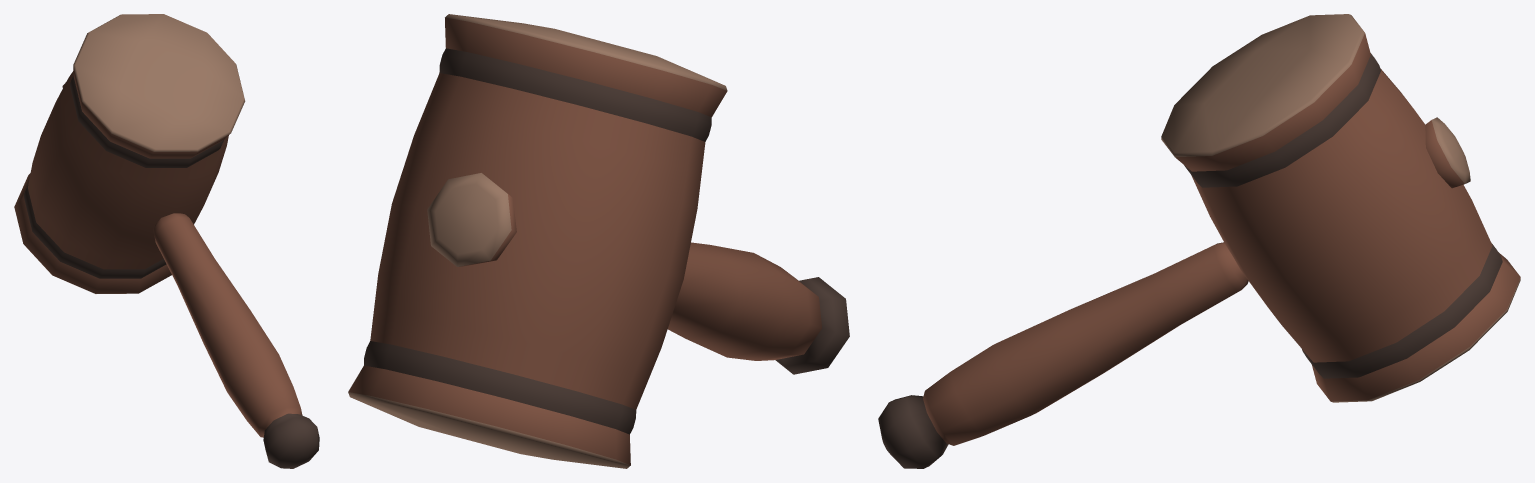
The model's file is Hammer.fbx.
3 views of the same model, side by side, from view 1: azimuth 30°, elevation 25°; view 2: azimuth 150°, elevation 25°; view 3: azimuth 270°, elevation 25° (orthographic). The views are drawn at different scales.
Visible parts, largest first — view 1: Hammer_Mesh; view 2: Hammer_Mesh; view 3: Hammer_Mesh.
Part boxes in pixels (x1=…): Hammer_Mesh: x1=14, y1=14, x2=319, y2=468; Hammer_Mesh: x1=348, y1=14, x2=849, y2=468; Hammer_Mesh: x1=878, y1=14, x2=1520, y2=468.
Bounding box in the file's own units: 1.05 × 2.07 × 2.77.
